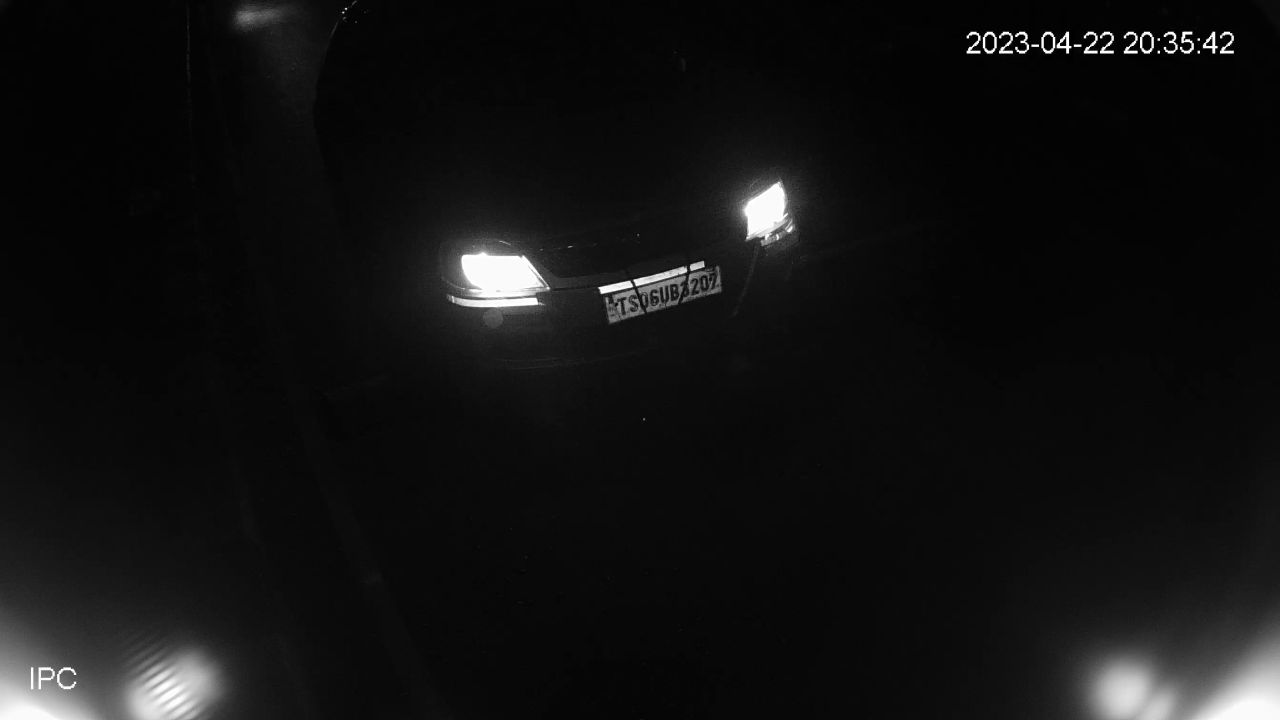license_plate: (599, 260, 730, 329)
